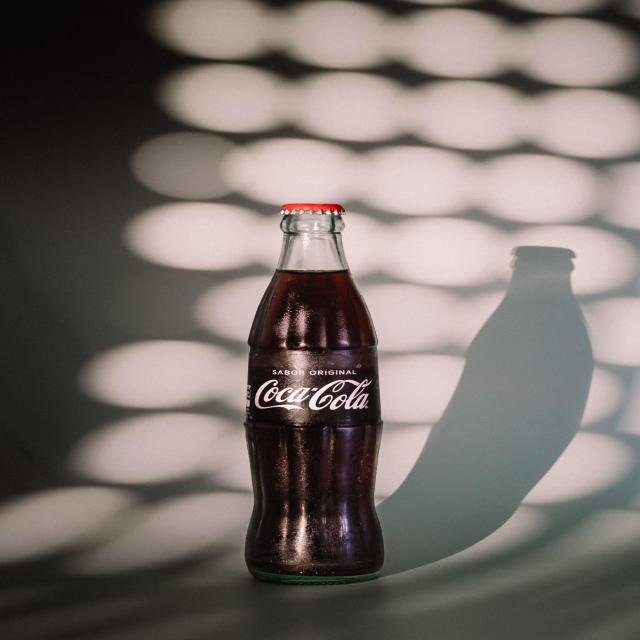coca-cola: (251, 376, 379, 416)
